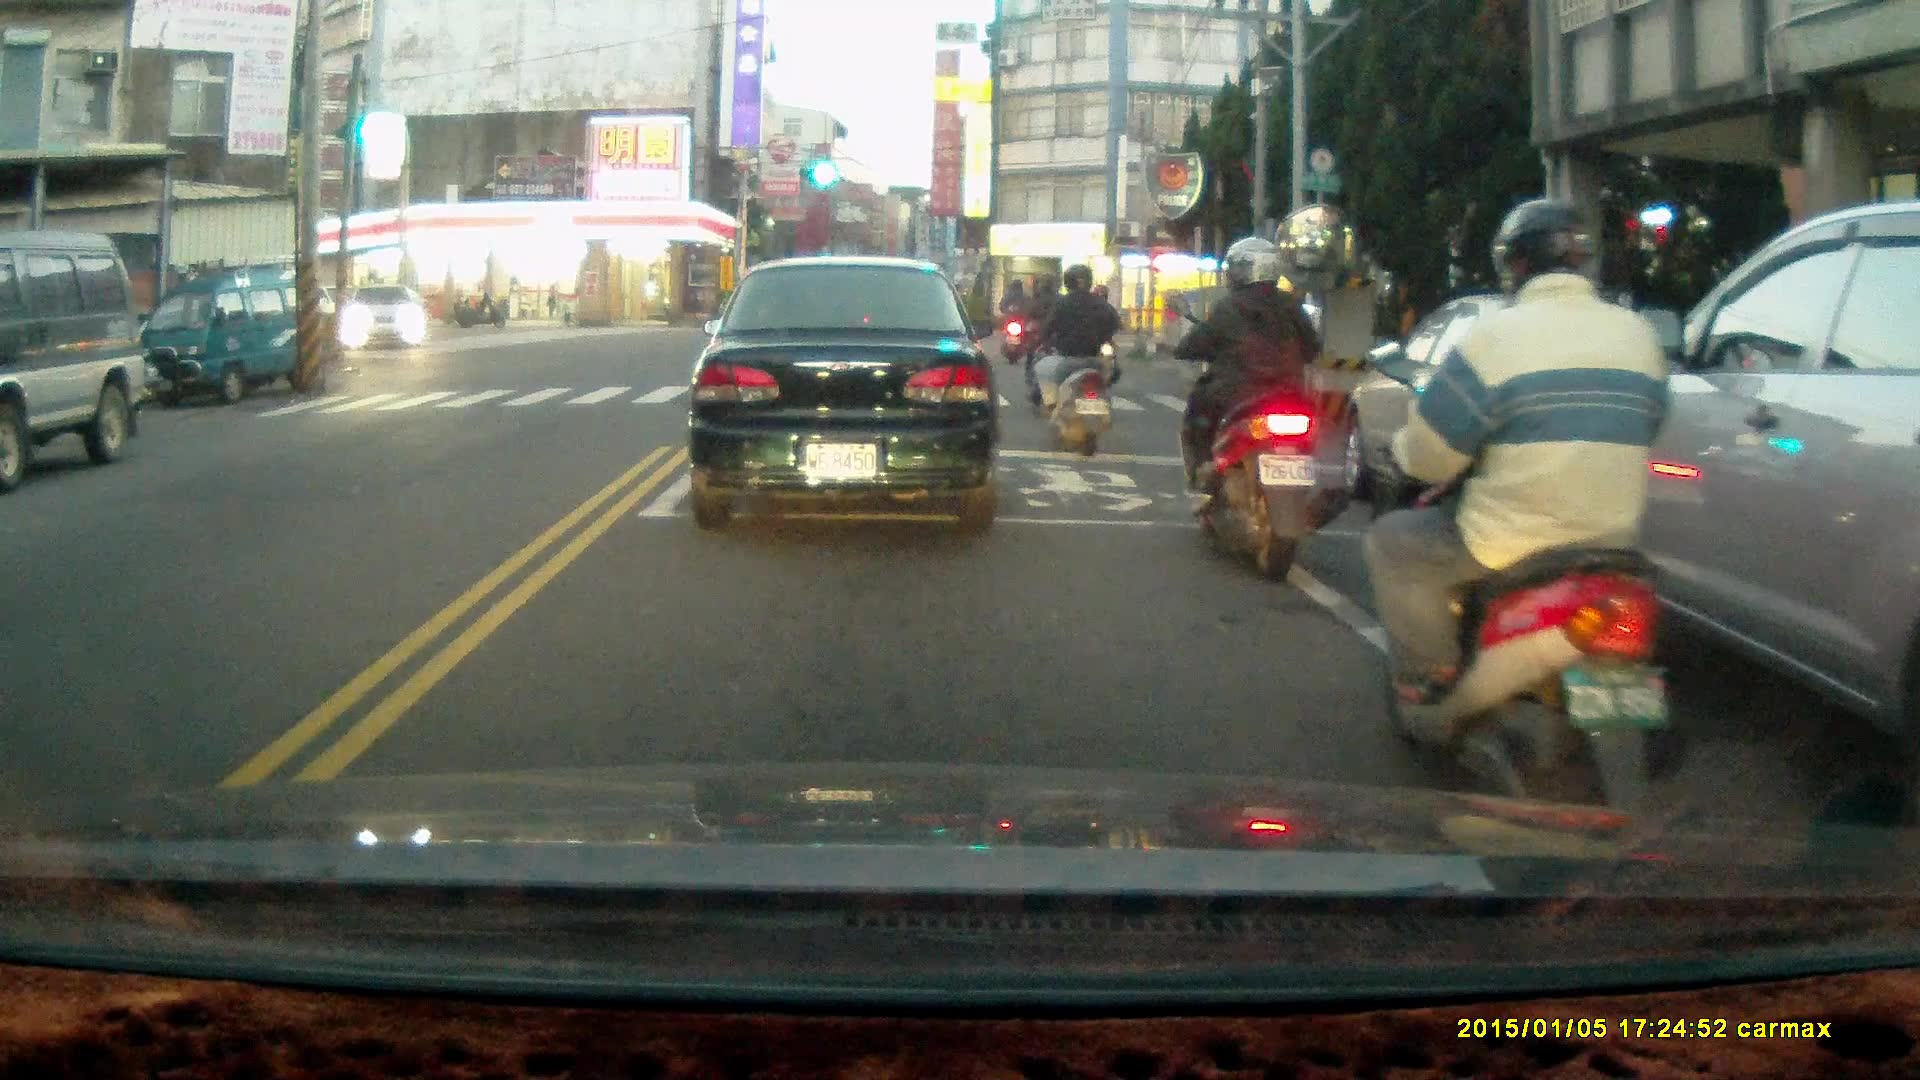rider: (1366, 196, 1702, 867), (1170, 232, 1348, 589), (1028, 257, 1114, 457), (995, 277, 1036, 366)
vehicle: (1561, 198, 1920, 846), (1354, 298, 1747, 562), (687, 253, 1008, 534), (1, 234, 140, 478), (146, 263, 303, 406), (341, 286, 429, 356)
